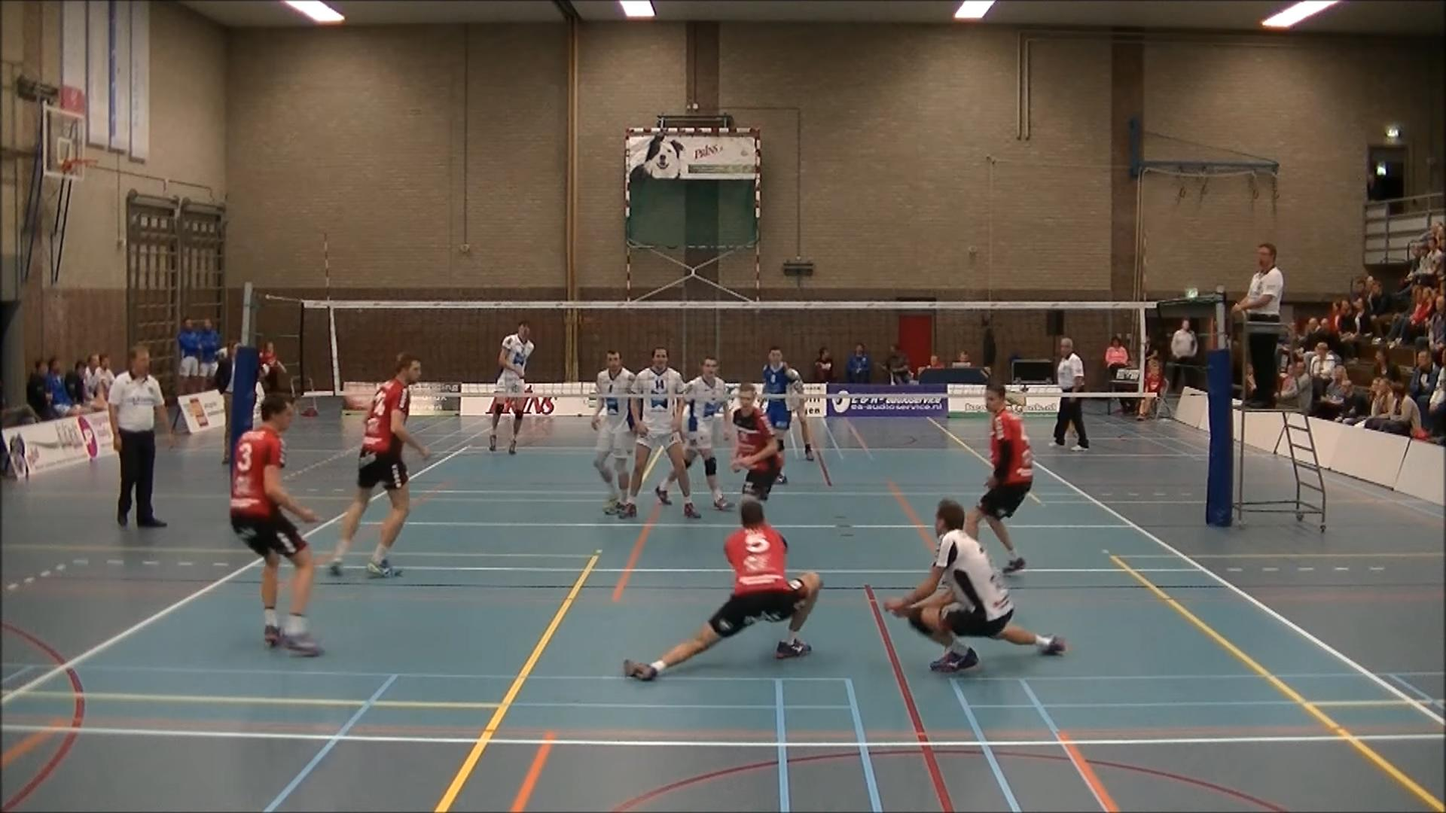ricezione: (624, 502, 835, 688)
